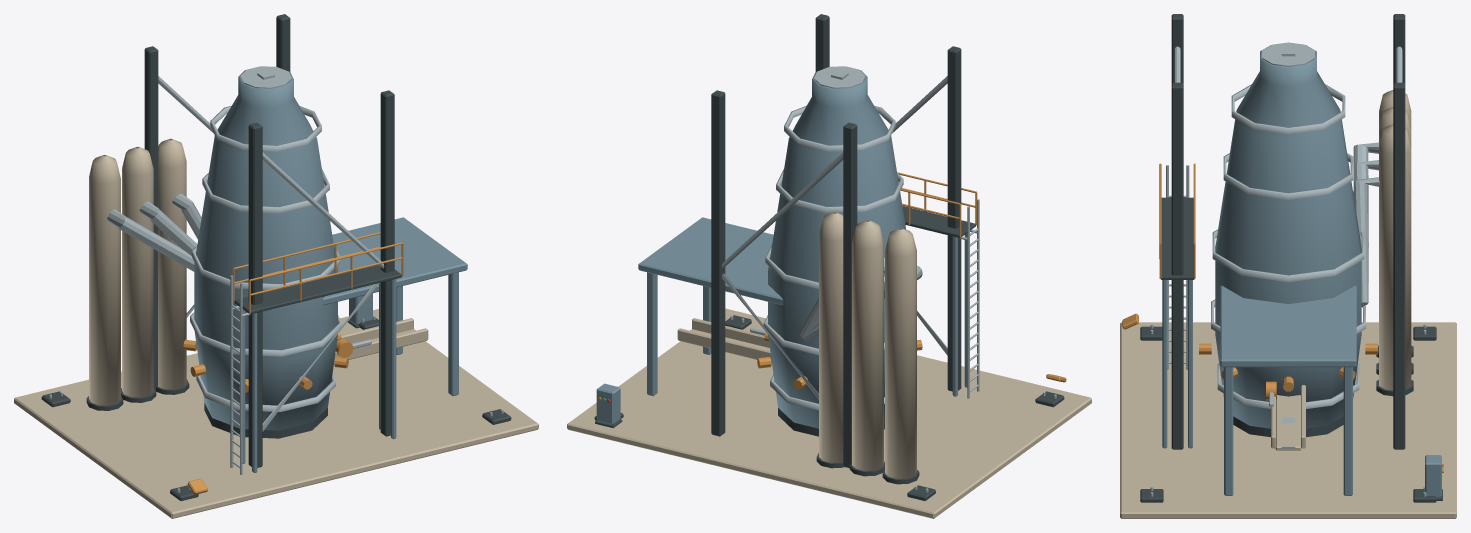
The picture shows the model from 3 angles, left to right: view 1: azimuth 30°, elevation 25°; view 2: azimuth 150°, elevation 25°; view 3: azimuth 270°, elevation 25°; orthographic projection. The views are drawn at different scales.
Parts seen in each view (by area): view 1: foundation, furnace_shell, hot_blast_stove_0, hot_blast_stove_1, hot_blast_stove_2, cast_house_roof, tower_leg_1.7_2.6, tower_leg_-2.1_2.6, furnace_gallery_deck, tower_leg_-2.1_-2.6, tower_cross_2.6, stove_manifold_0 (+17 smaller); view 2: foundation, furnace_shell, hot_blast_stove_1, hot_blast_stove_0, hot_blast_stove_2, cast_house_roof, tower_leg_1.7_-2.6, tower_leg_-2.1_2.6, tower_leg_-2.1_-2.6, tower_cross_-2.6, cast_house_post_-1.4, shell_band_8 (+10 smaller); view 3: foundation, furnace_shell, cast_house_roof, hot_blast_stove_2, tower_leg_1.7_-2.6, tower_leg_1.7_2.6, furnace_gallery_deck, shell_band_4.4, stove_manifold_2, tap_race, cast_house_post_-1.4, cast_house_post_1.4 (+13 smaller).
Part boxes in pixels (x1=…): foundation: x1=14, y1=309, x2=538, y2=518; furnace_shell: x1=194, y1=70, x2=337, y2=430; hot_blast_stove_0: x1=89, y1=155, x2=120, y2=405; hot_blast_stove_1: x1=122, y1=146, x2=153, y2=397; hot_blast_stove_2: x1=158, y1=138, x2=186, y2=389; cast_house_roof: x1=322, y1=217, x2=467, y2=305; tower_leg_1.7_2.6: x1=380, y1=90, x2=394, y2=436; tower_leg_-2.1_2.6: x1=248, y1=122, x2=262, y2=467; furnace_gallery_deck: x1=234, y1=265, x2=401, y2=314; tower_leg_-2.1_-2.6: x1=144, y1=46, x2=158, y2=390; tower_cross_2.6: x1=262, y1=152, x2=384, y2=431; stove_manifold_0: x1=107, y1=209, x2=194, y2=271; foundation: x1=567, y1=308, x2=1091, y2=518; furnace_shell: x1=768, y1=70, x2=905, y2=428; hot_blast_stove_1: x1=852, y1=220, x2=883, y2=470; hot_blast_stove_0: x1=885, y1=228, x2=916, y2=478; hot_blast_stove_2: x1=819, y1=212, x2=843, y2=462; cast_house_roof: x1=638, y1=217, x2=783, y2=305; tower_leg_1.7_-2.6: x1=711, y1=90, x2=725, y2=436; tower_leg_-2.1_2.6: x1=947, y1=46, x2=961, y2=391; tower_leg_-2.1_-2.6: x1=843, y1=122, x2=857, y2=467; tower_cross_-2.6: x1=721, y1=152, x2=843, y2=399; cast_house_post_-1.4: x1=647, y1=272, x2=657, y2=395; shell_band_8: x1=784, y1=106, x2=895, y2=151; foundation: x1=1120, y1=322, x2=1456, y2=518; furnace_shell: x1=1215, y1=45, x2=1361, y2=428; cast_house_roof: x1=1220, y1=285, x2=1356, y2=367; hot_blast_stove_2: x1=1379, y1=124, x2=1411, y2=390; tower_leg_1.7_-2.6: x1=1393, y1=82, x2=1405, y2=449; tower_leg_1.7_2.6: x1=1171, y1=82, x2=1183, y2=449; furnace_gallery_deck: x1=1161, y1=197, x2=1194, y2=279; shell_band_4.4: x1=1212, y1=229, x2=1364, y2=282; stove_manifold_2: x1=1353, y1=177, x2=1379, y2=302; tap_race: x1=1275, y1=395, x2=1301, y2=450; cast_house_post_-1.4: x1=1343, y1=367, x2=1352, y2=495; cast_house_post_1.4: x1=1224, y1=367, x2=1233, y2=495.
Size of the model in its own units: 10.6 by 9.6 by 7.9.
